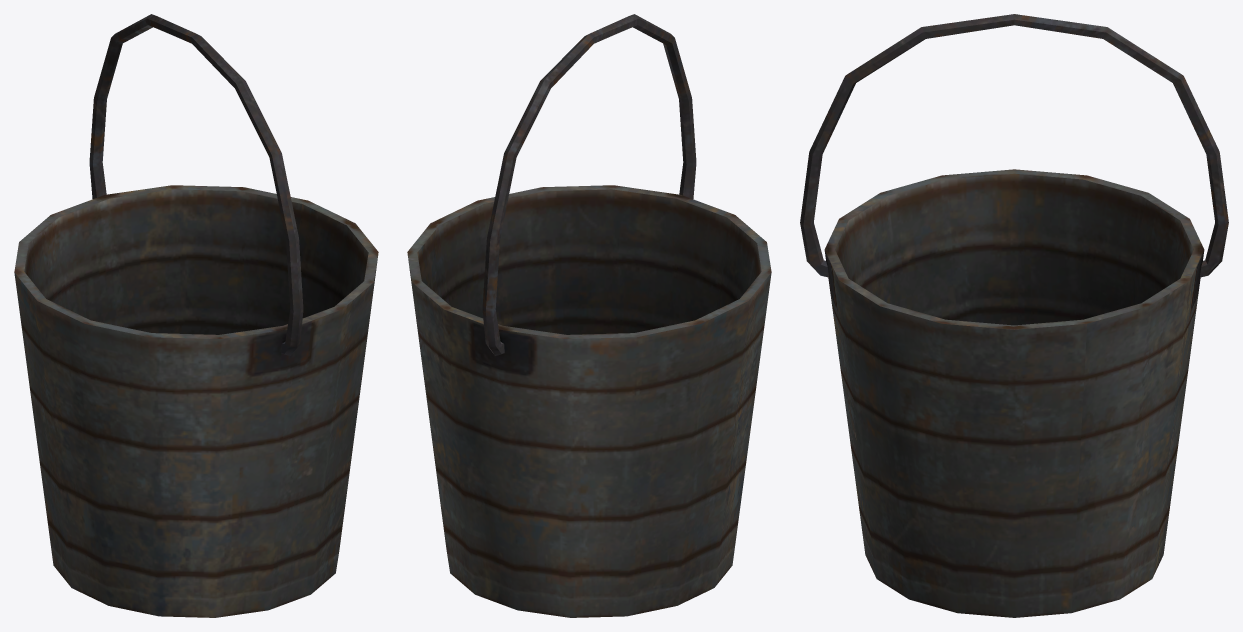
The model's file is bucket.DAE.
The picture shows the model from 3 angles, left to right: view 1: azimuth 30°, elevation 25°; view 2: azimuth 150°, elevation 25°; view 3: azimuth 270°, elevation 25°; orthographic projection. The views are drawn at different scales.
Visible parts, largest first — view 1: bucket, handle; view 2: bucket, handle; view 3: bucket, handle.
Part boxes in pixels (x1,y1,x2,y2): bucket: (14,185,378,617); handle: (89,14,303,355); bucket: (407,185,771,617); handle: (482,14,696,355); bucket: (824,169,1204,617); handle: (800,14,1228,277).
Bounding box in the file's own units: 0.4236 × 0.6659 × 0.4783.
